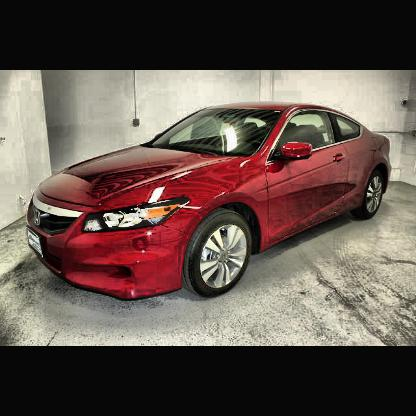Honda Accord Coupe 2012: (27, 103, 392, 301)
